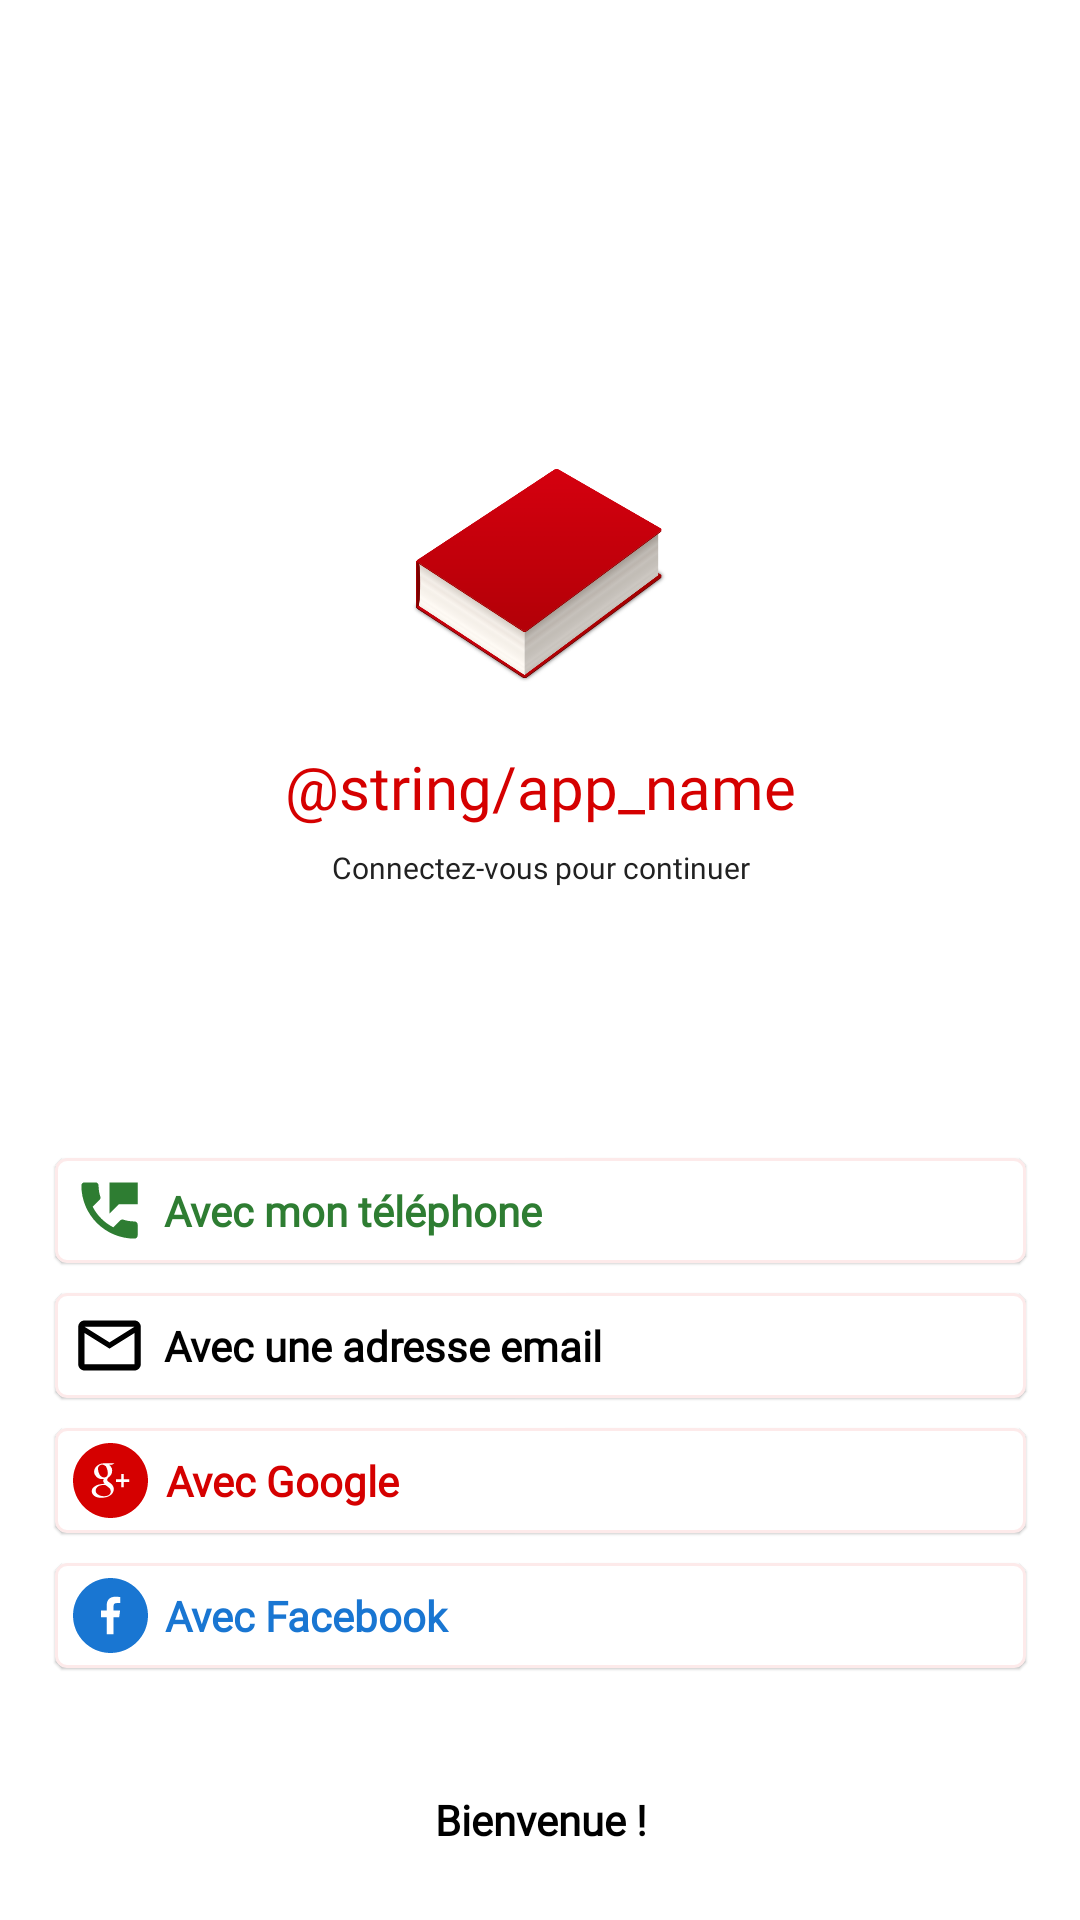

Where to tap for icons on this 1080px x 1920px app screen, as (x=x, y=y):
books: (x=539, y=574)
perm phone msg: (x=96, y=1202)
